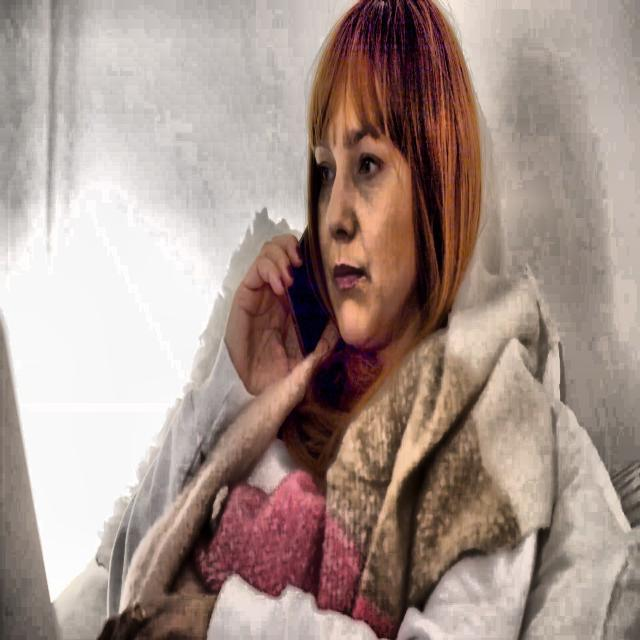Phone: (283, 219, 331, 363)
